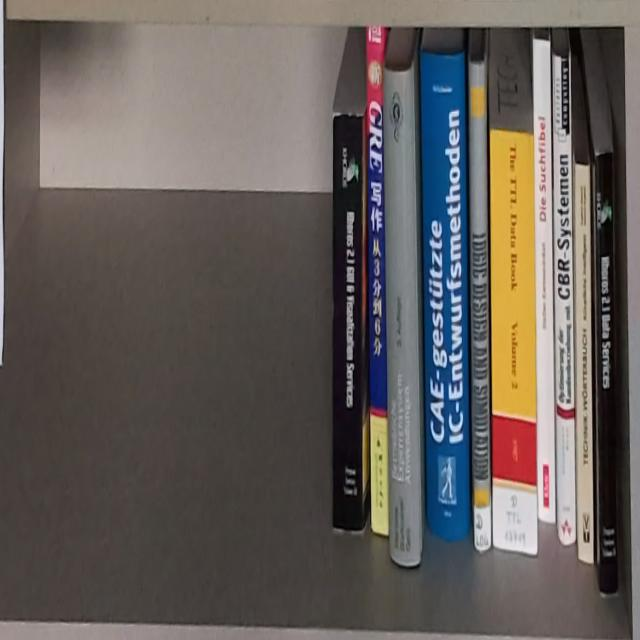Book Spine: (420, 35, 472, 549), (489, 122, 538, 554), (385, 73, 420, 567), (550, 46, 578, 548), (333, 116, 366, 537), (532, 36, 559, 529), (466, 50, 491, 562), (368, 24, 391, 545), (591, 149, 617, 602), (574, 158, 598, 579)
